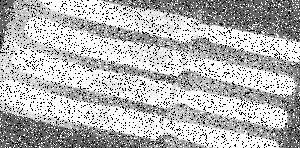knife: (5, 37, 294, 139), (22, 10, 300, 107), (0, 72, 279, 146), (35, 0, 300, 71)
